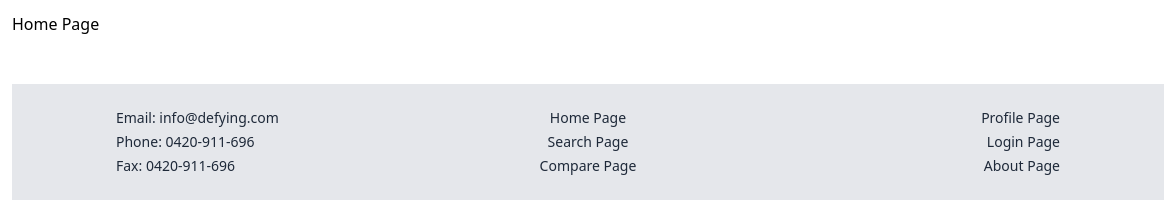
Test: Footer Component - Integration Tests › navigates to Compare Page when 'Compare Page' link is clicked
The width and height of the screenshot is (1164, 217).
Click the link "Compare Page" at (588, 166), box [540,156,636,176]
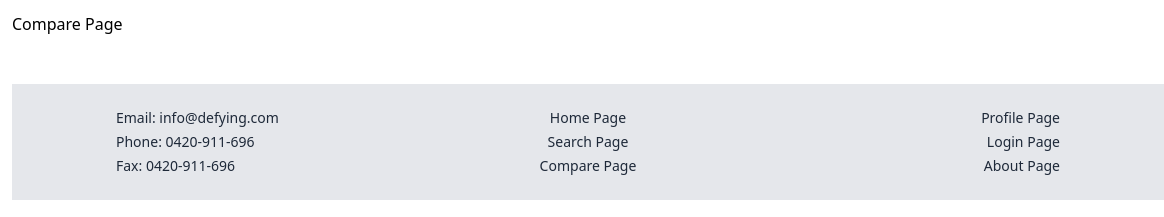
expect the heading "Compare Page" is shown: met, box [12,13,123,35]
